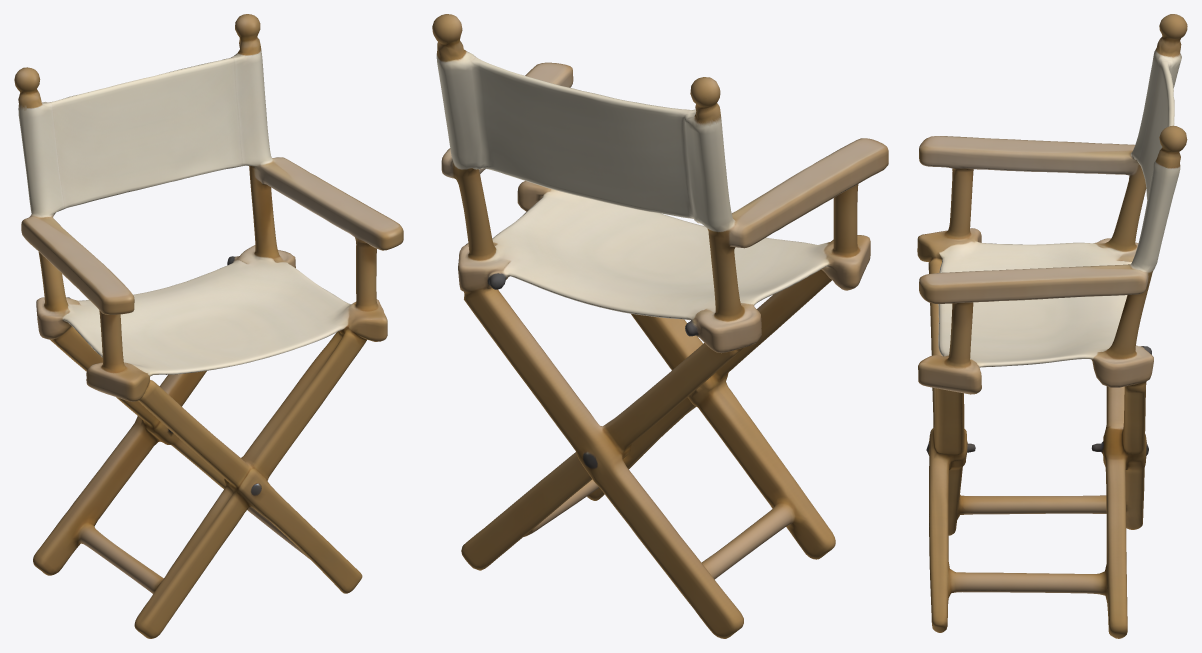
File: 09_director_chair.glb
The picture shows the model from 3 angles, left to right: view 1: azimuth 30°, elevation 25°; view 2: azimuth 150°, elevation 25°; view 3: azimuth 270°, elevation 25°; orthographic projection. The views are drawn at different scales.
Visible parts, largest first — view 1: 09_director_chair; view 2: 09_director_chair; view 3: 09_director_chair.
Boxes of the visible parts, left/top/right/bottom form: 09_director_chair: left=14, top=14, right=403, bottom=638; 09_director_chair: left=432, top=14, right=888, bottom=638; 09_director_chair: left=917, top=14, right=1187, bottom=638.
Bounding box in the file's own units: 0.6035 × 0.95 × 0.4533.
1 material, 1 textured.
